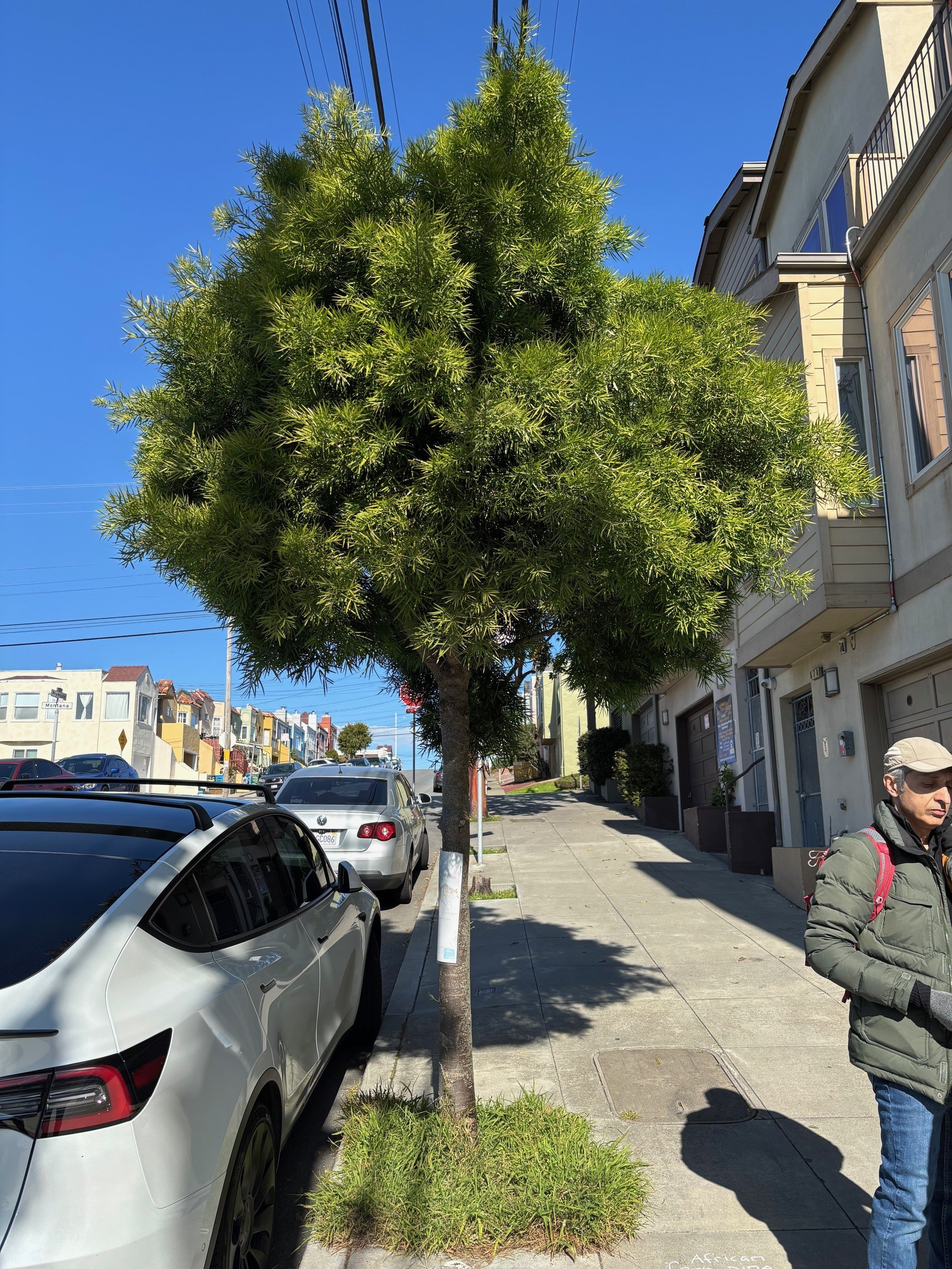Car: (8, 774, 385, 1269), (264, 757, 438, 888)
Person: (810, 726, 952, 1269)
Tree: (176, 65, 808, 1169)
